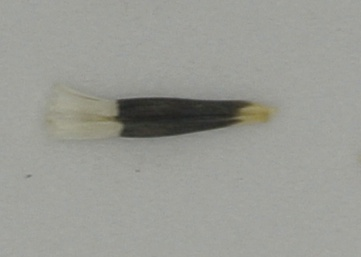เมล็ดดีติดกัน: (42, 87, 273, 142)
